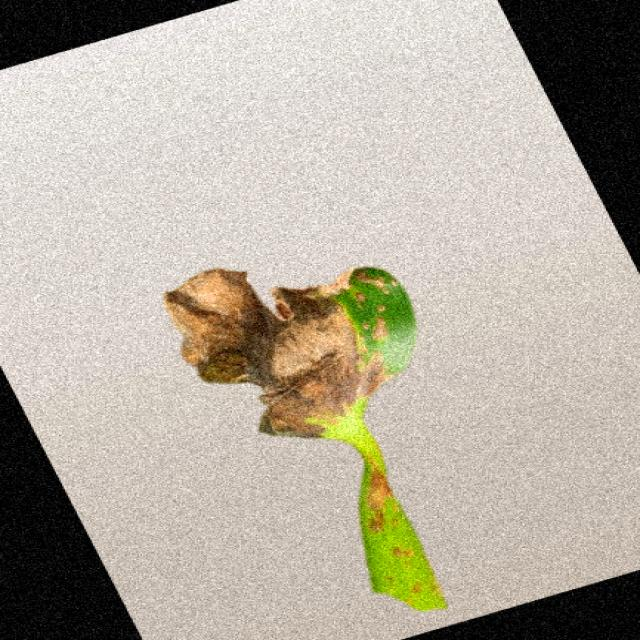daun berpenyakit karat: (165, 268, 446, 610)
